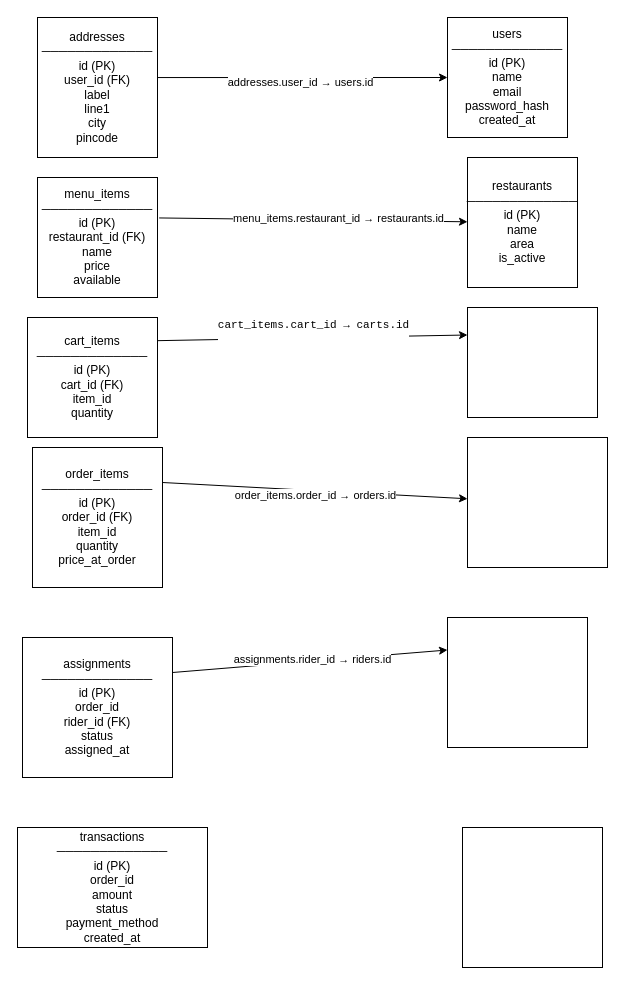
The diagram is 625 pixels wide and 985 high, and some of its shapes have lost their labels. Each missing label, with the centre of its shape:
"carts ───────────── id (PK) student_id created_at" goes at point (532, 362).
"messages ───────────── id (PK) student_id type content sent_at" goes at point (532, 897).
"orders ───────────── id (PK) student_id address_id status total created_at" goes at point (537, 502).
"riders ───────────── id (PK) name phone is_available" goes at point (517, 682).
